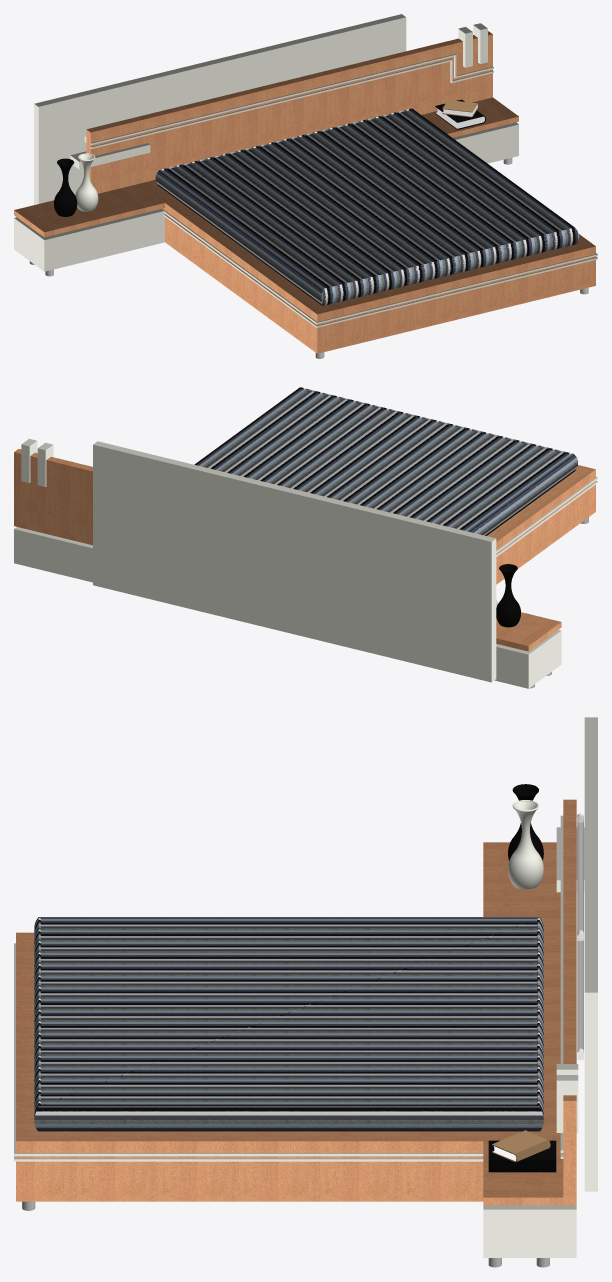
File: bed_1.glb
The picture shows the model from 3 angles, top to bottom: view 1: azimuth 30°, elevation 25°; view 2: azimuth 150°, elevation 25°; view 3: azimuth 270°, elevation 25°; orthographic projection. The views are drawn at different scales.
Parts seen in each view (by area): view 1: BED_9020; view 2: BED_9020; view 3: BED_9020.
Boxes of the visible parts, x1,y1,x2,y2 form: BED_9020: (14, 14, 597, 358); BED_9020: (14, 387, 597, 688); BED_9020: (14, 717, 597, 1267).
Bounding box in the file's own units: 5.17 × 1.48 × 3.59.
9 materials, 2 textured.
